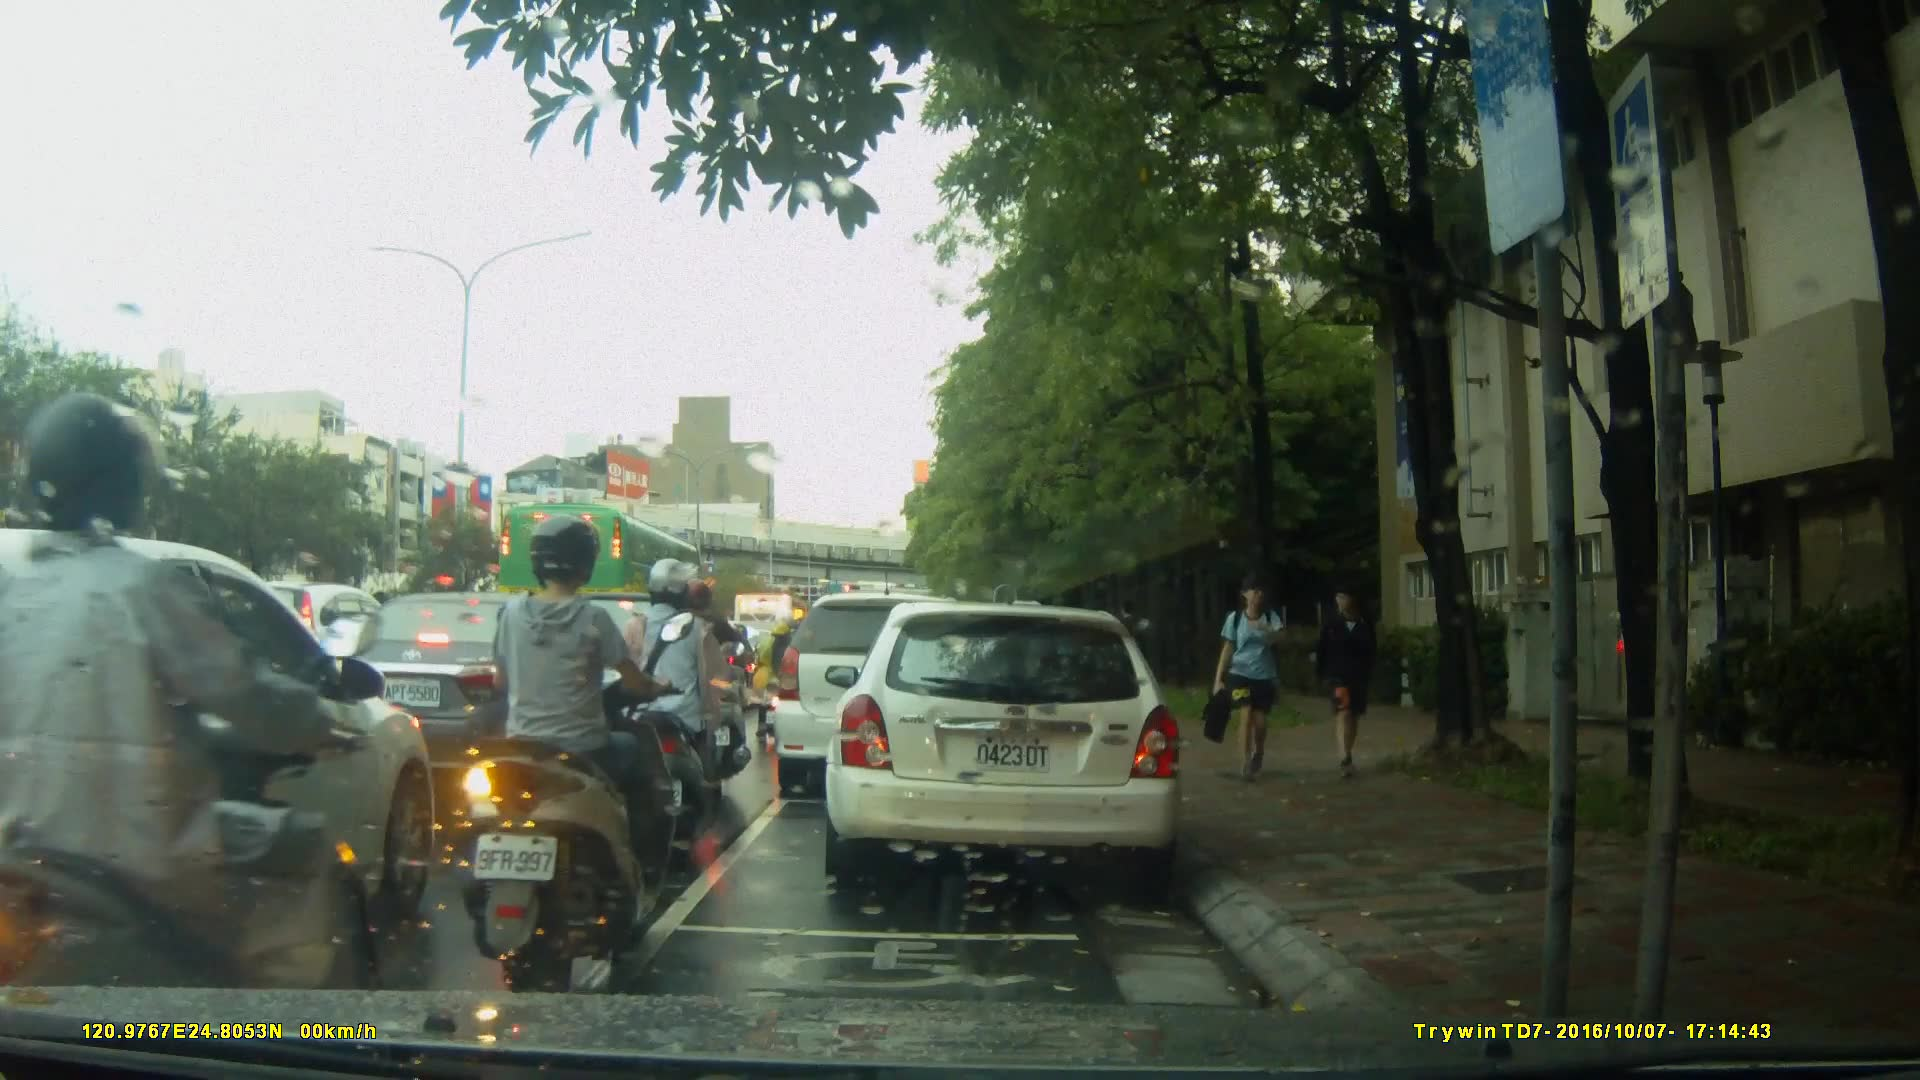pedestrian: (1201, 573, 1310, 786), (1311, 570, 1390, 780), (1121, 596, 1151, 688)
rider: (1, 386, 397, 1080), (469, 512, 669, 972), (621, 556, 720, 842), (676, 580, 757, 783), (759, 617, 810, 744)
vehicle: (1, 528, 448, 988), (831, 592, 1196, 897), (314, 590, 631, 803), (770, 591, 999, 803), (495, 500, 707, 636)
